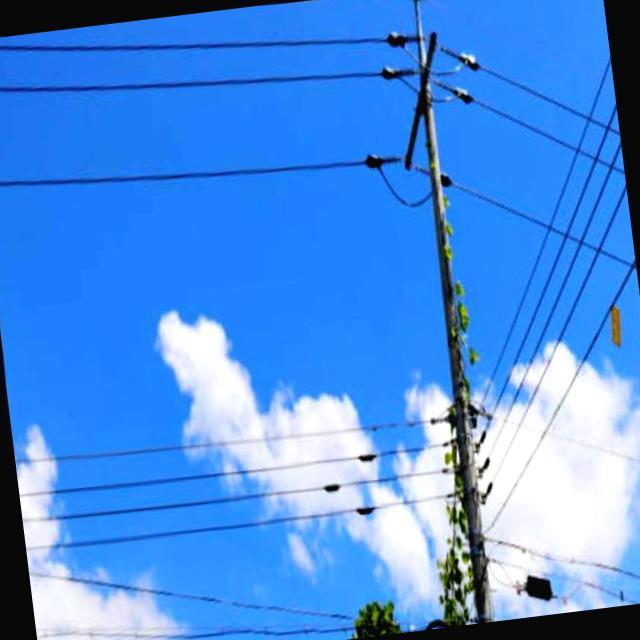light_pole: (399, 139, 508, 610)
